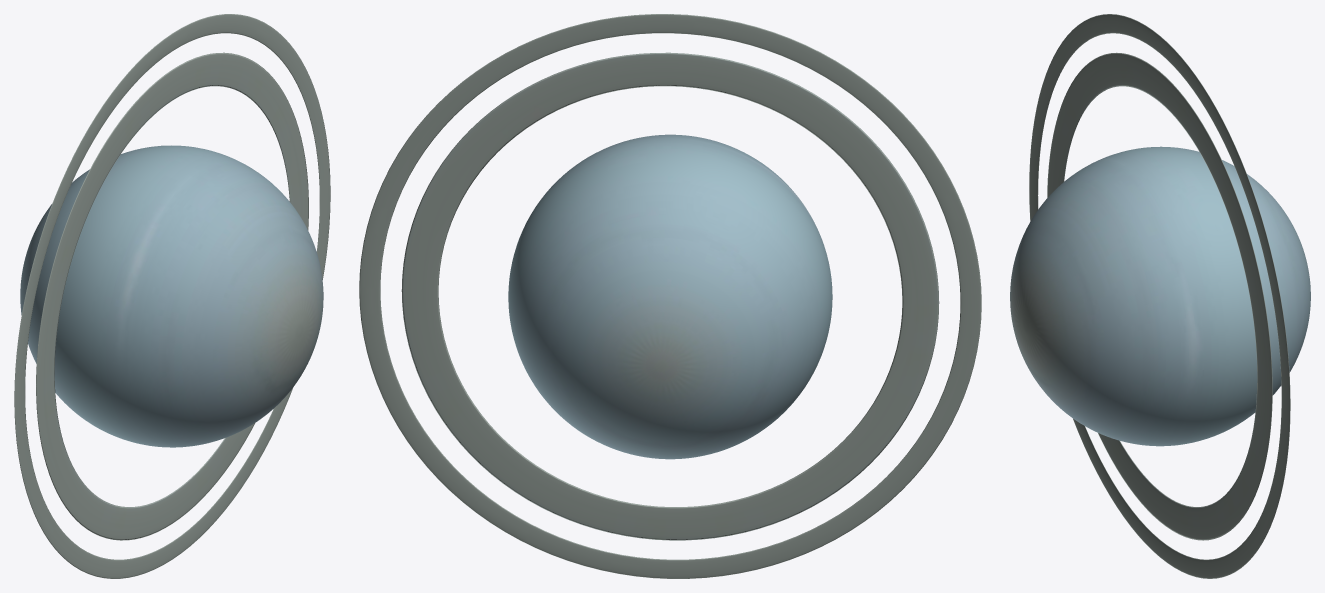
The model's file is uranus.obj.
3 views of the same model, side by side, from view 1: azimuth 30°, elevation 25°; view 2: azimuth 150°, elevation 25°; view 3: azimuth 270°, elevation 25° (orthographic). The views are drawn at different scales.
Parts seen in each view (by area): view 1: Object_2; view 2: Object_2; view 3: Object_2.
Part boxes in pixels (x1,y1,x2,y2): Object_2: (14, 14, 330, 578); Object_2: (359, 14, 981, 578); Object_2: (1010, 14, 1310, 578).
Size of the model in its own units: 861 by 966 by 505.
Materials: 1 (1 with a texture image).
